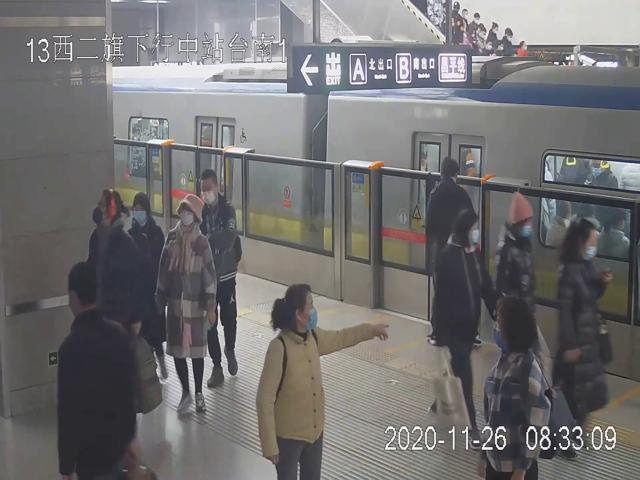person: (56, 262, 135, 480), (434, 208, 498, 455), (254, 283, 332, 480), (483, 294, 553, 480), (558, 215, 612, 447), (159, 195, 213, 413), (200, 167, 242, 388), (129, 192, 169, 381), (495, 190, 538, 348)
